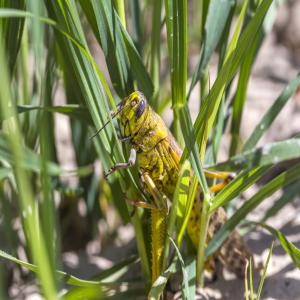locust: (106, 85, 254, 300)
